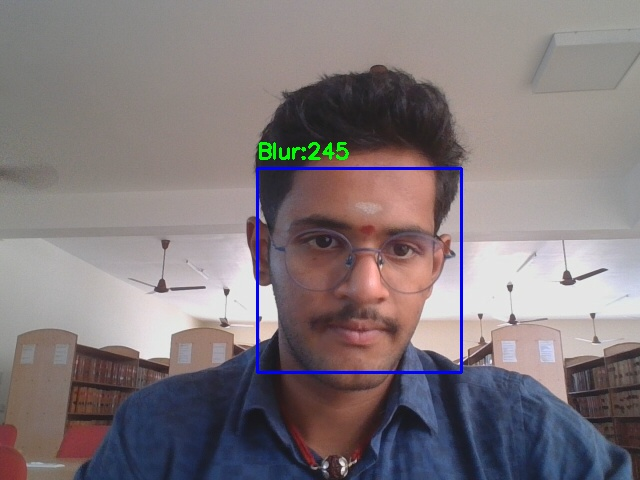real: (257, 168, 461, 372)
